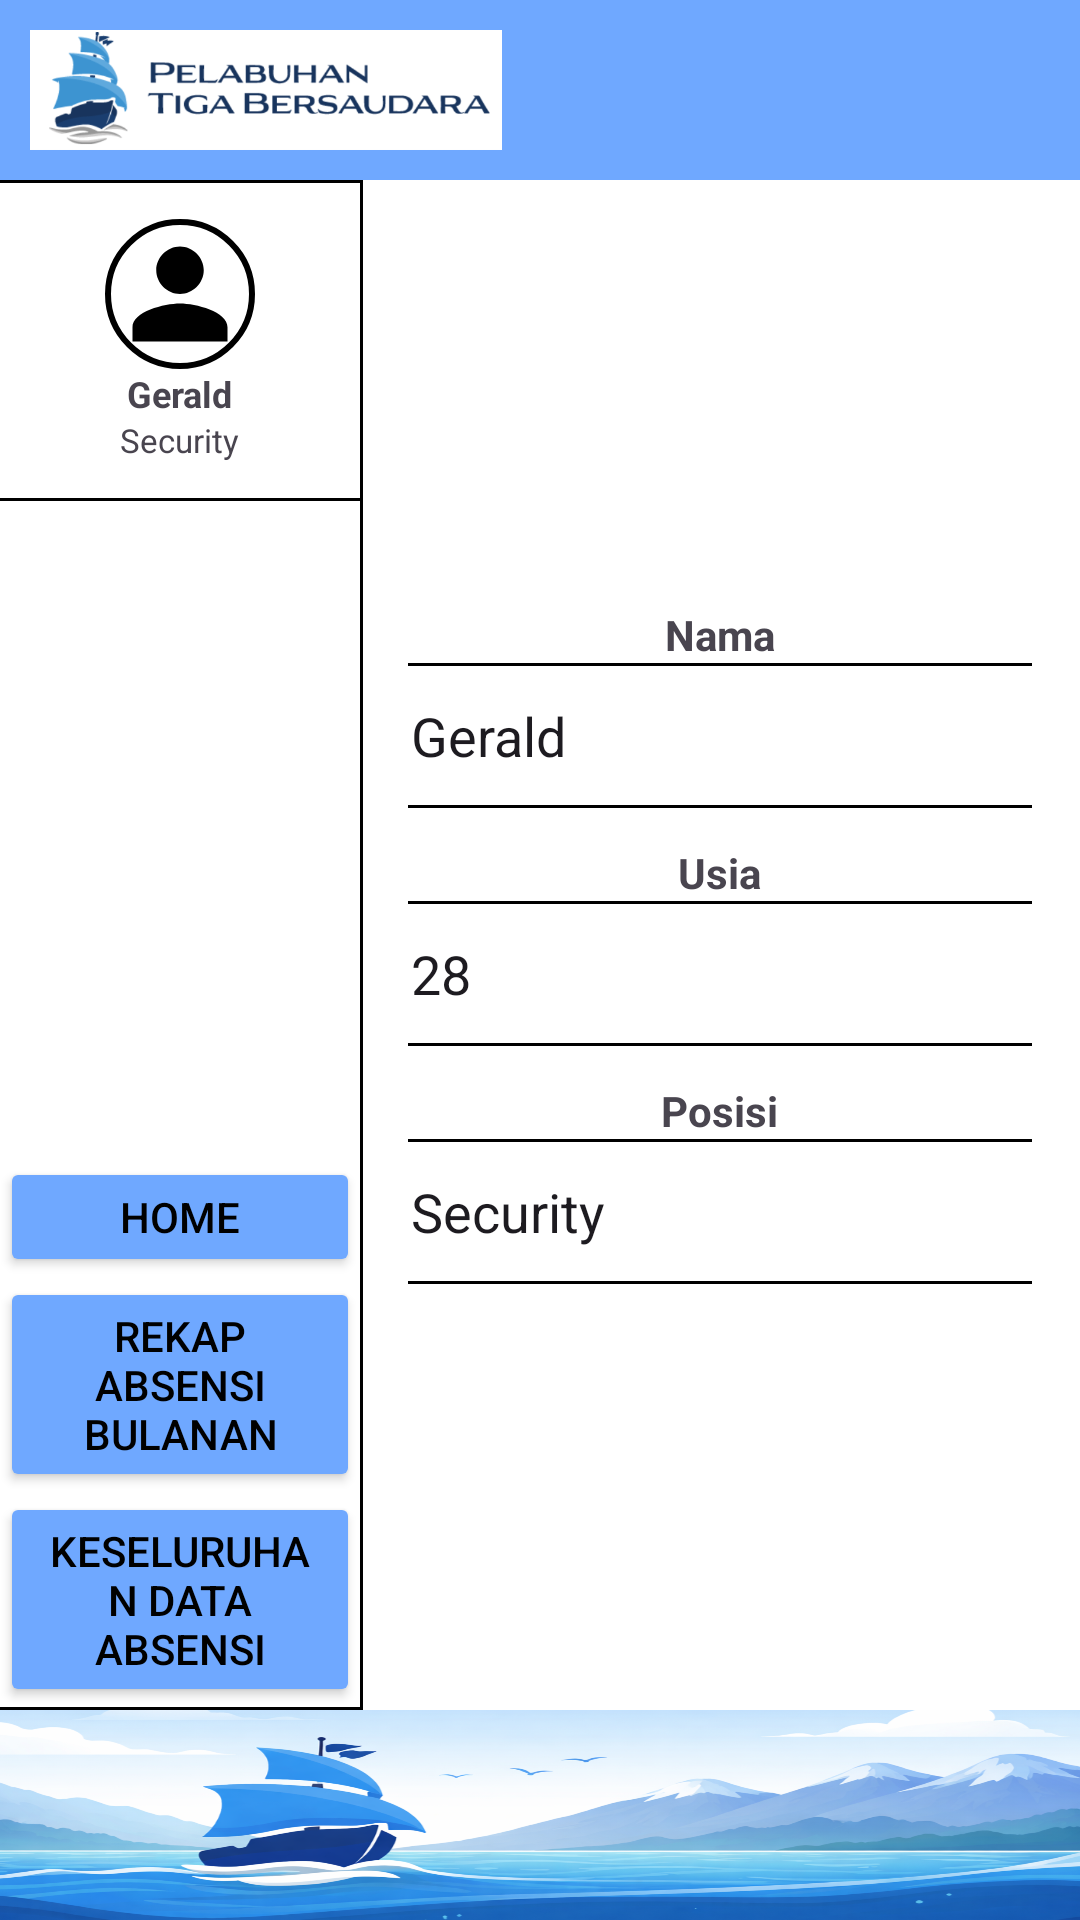

Icons on this 1080x1920 Android screen, each with the point to tap as [x,y]:
profile: [180,294]
